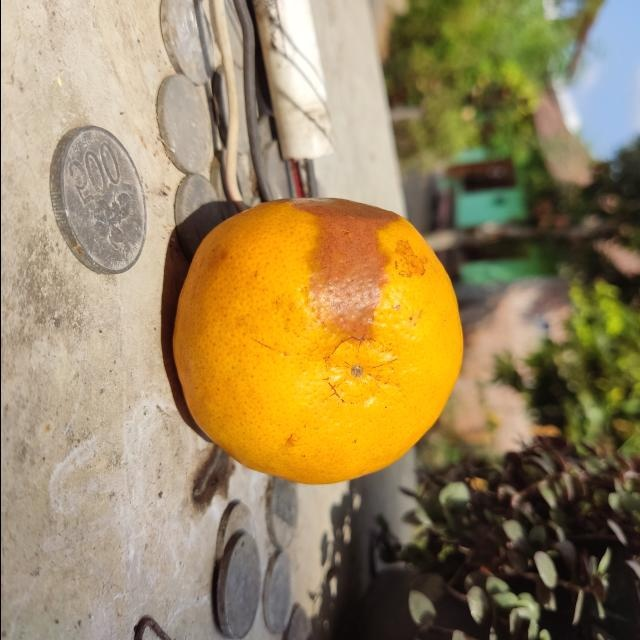agrume: (172, 196, 464, 489)
